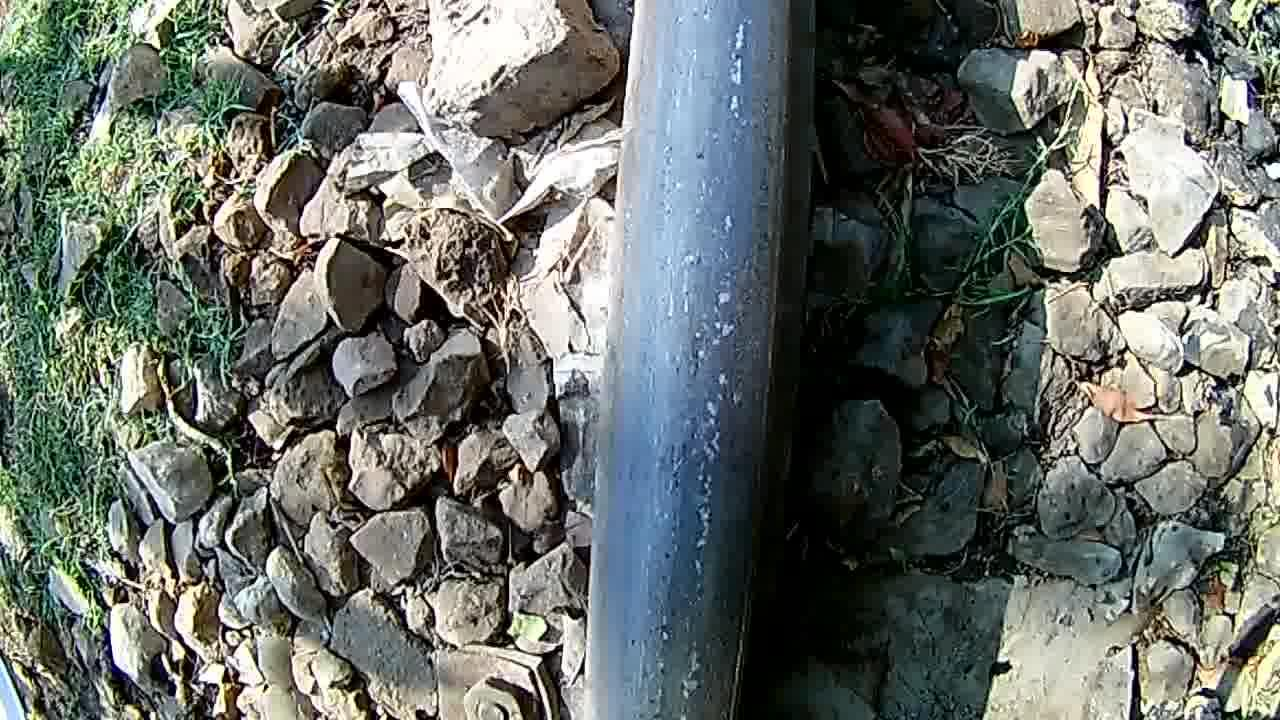clip_missing: (595, 0, 794, 720)
